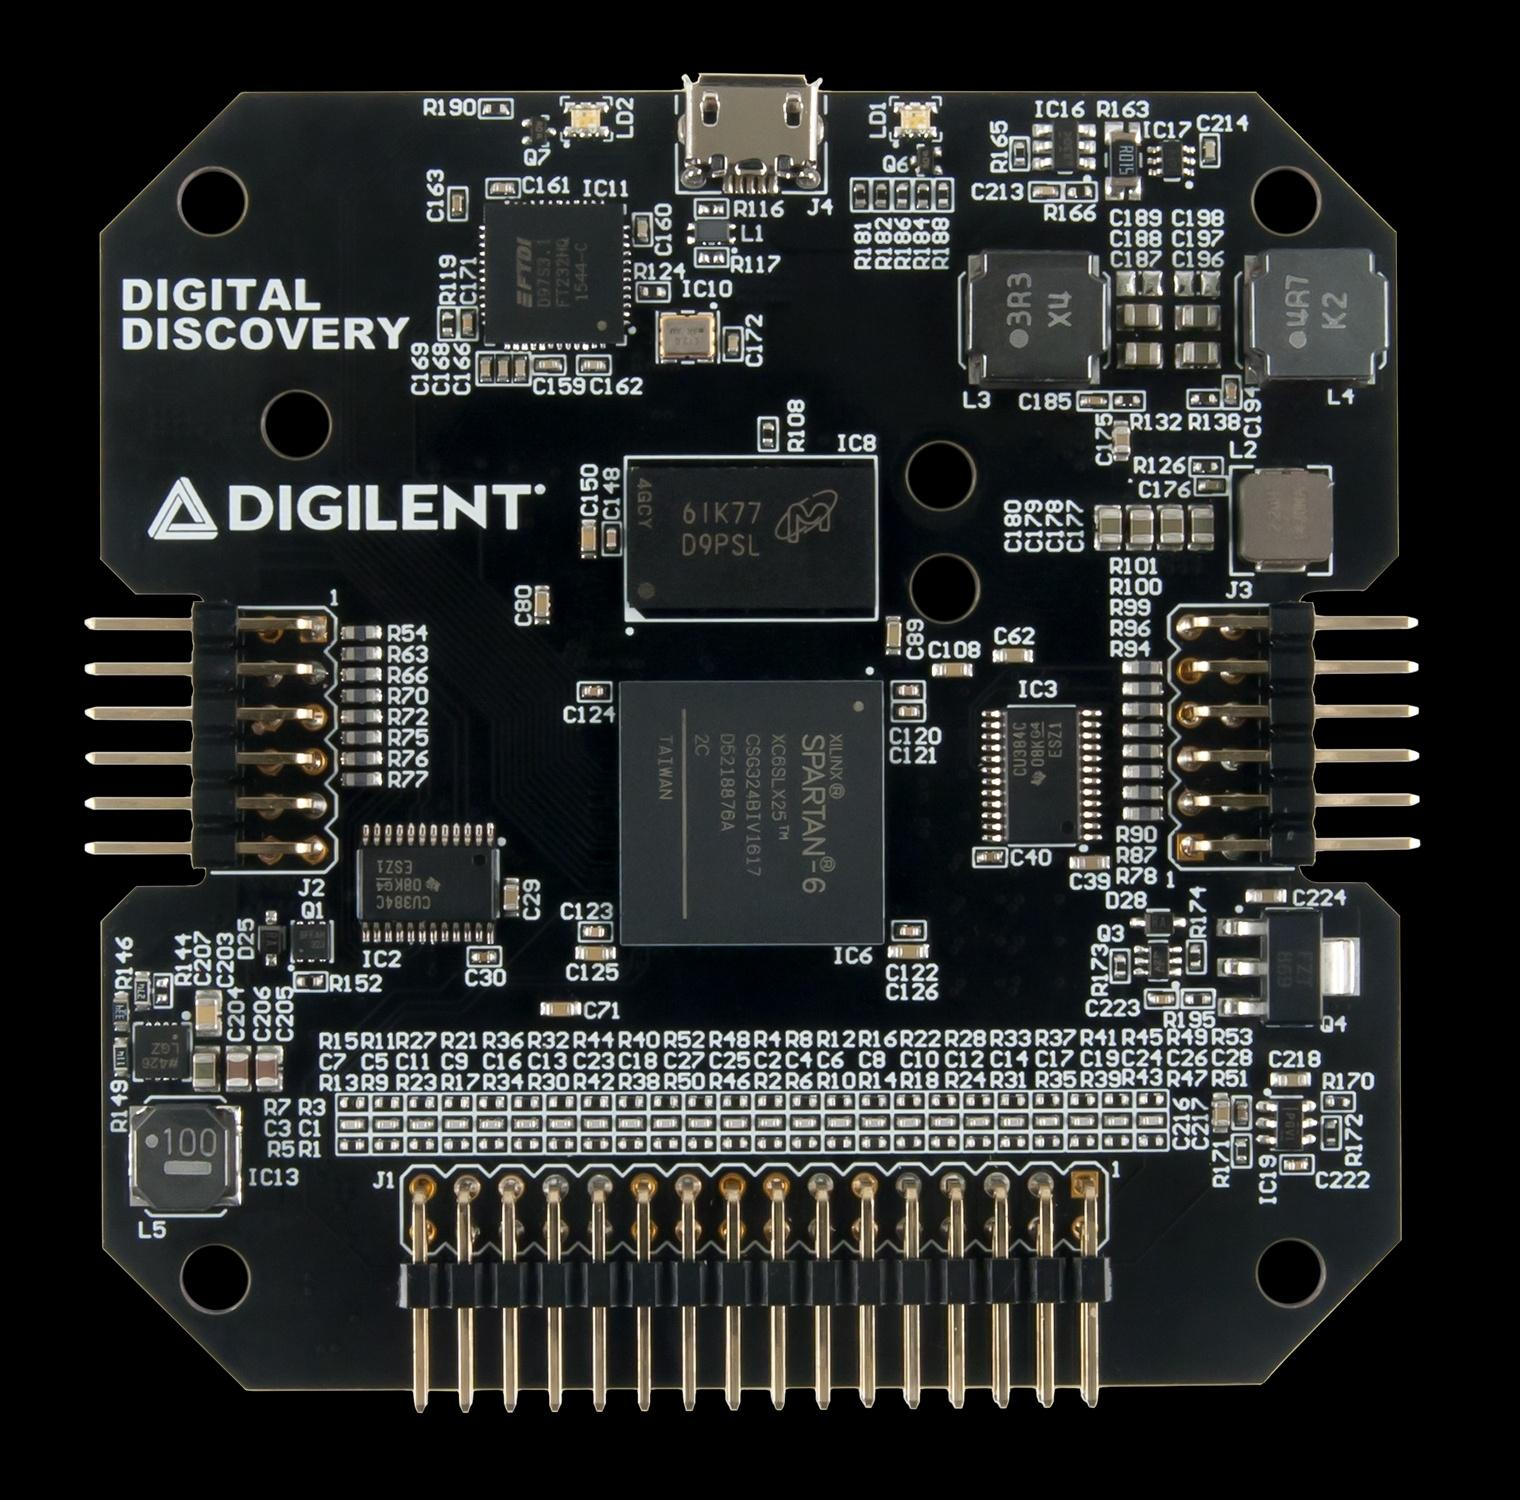tranzystor: (1218, 907, 1365, 1029), (1136, 938, 1181, 986), (292, 916, 334, 960), (525, 111, 556, 146), (910, 143, 943, 174)
